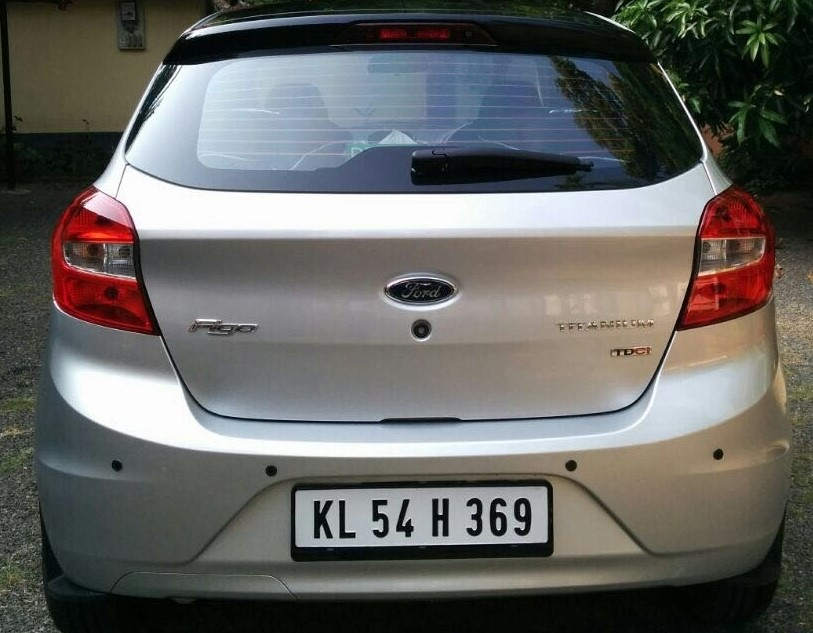KL54H369: (294, 485, 546, 546)
